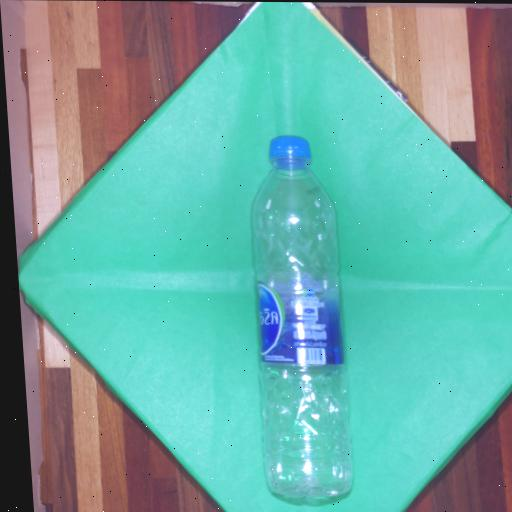bottle: (252, 137, 351, 497)
